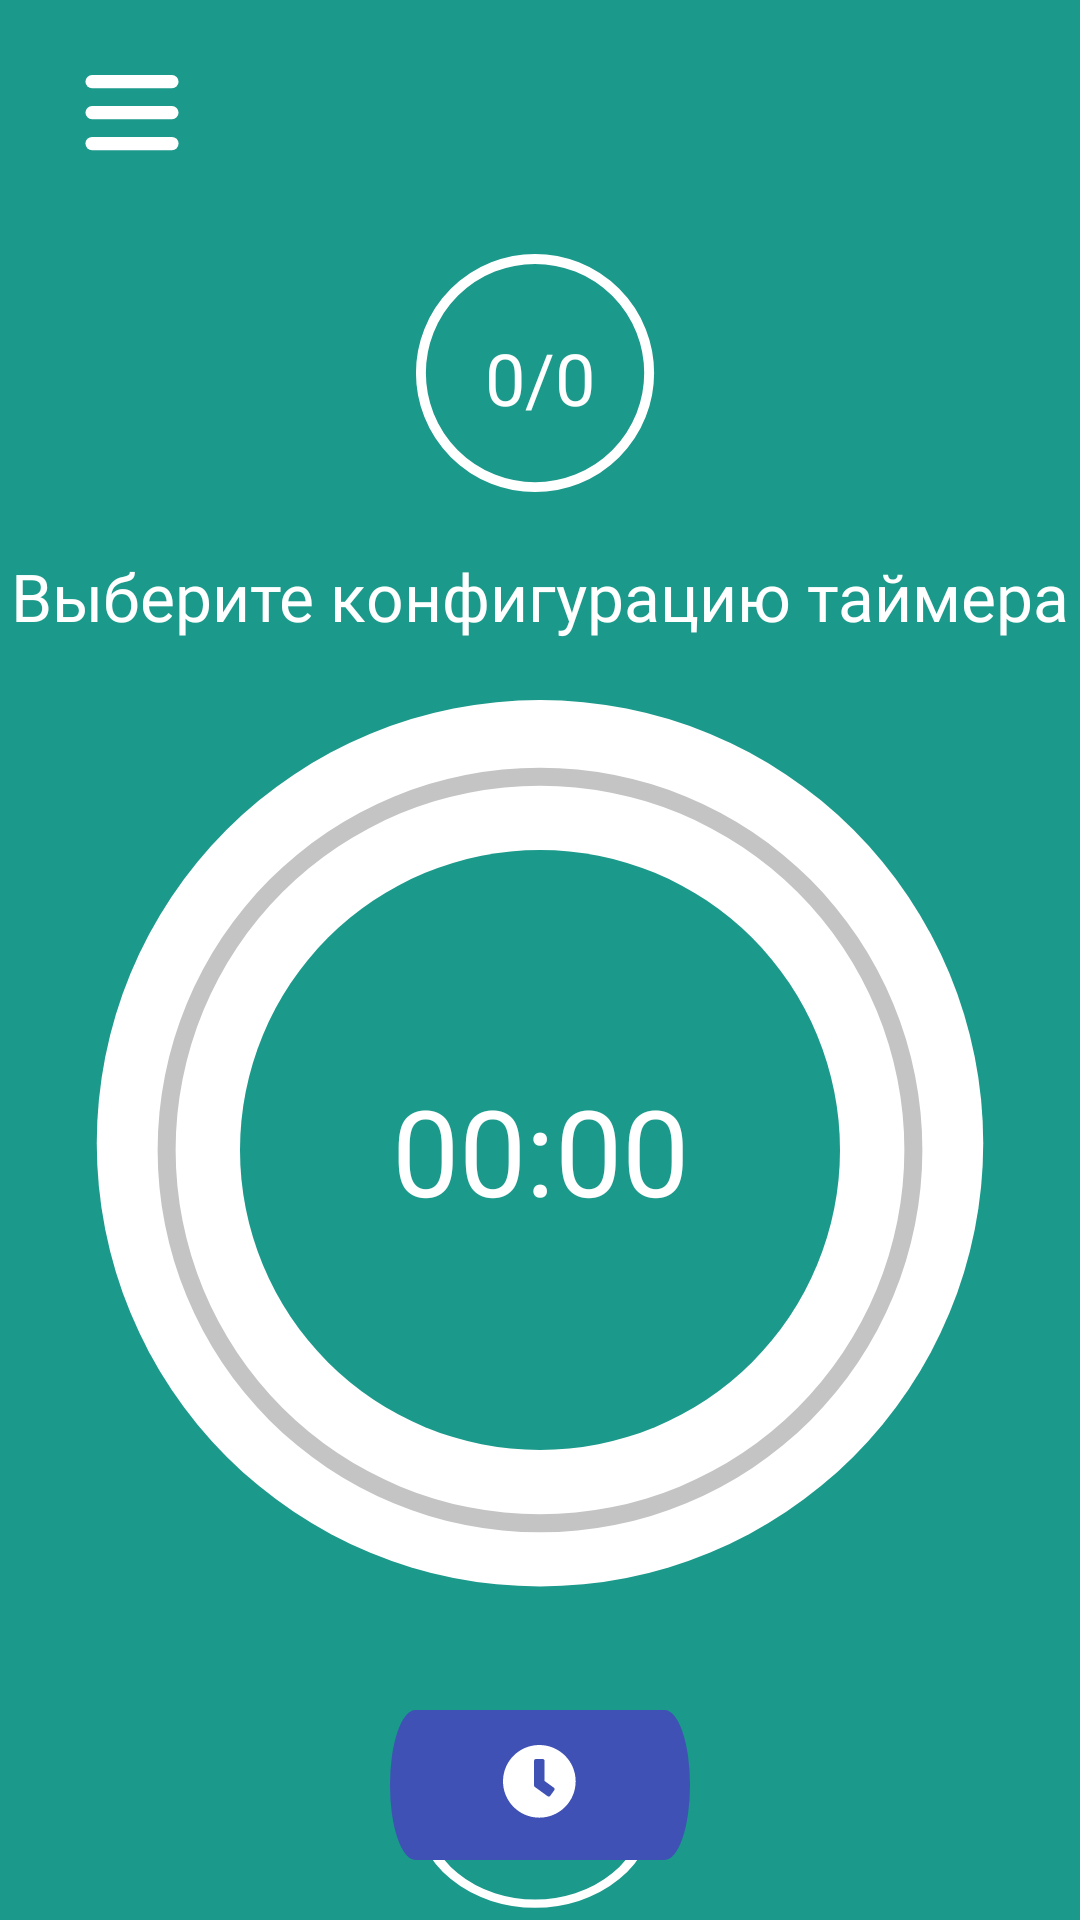

Icons on this 1080px x 1920px Android screen, each with its box as (x1, y1, x2, y2):
clock setup: (503, 1745, 576, 1818)
Side bar button: (85, 75, 179, 151)
